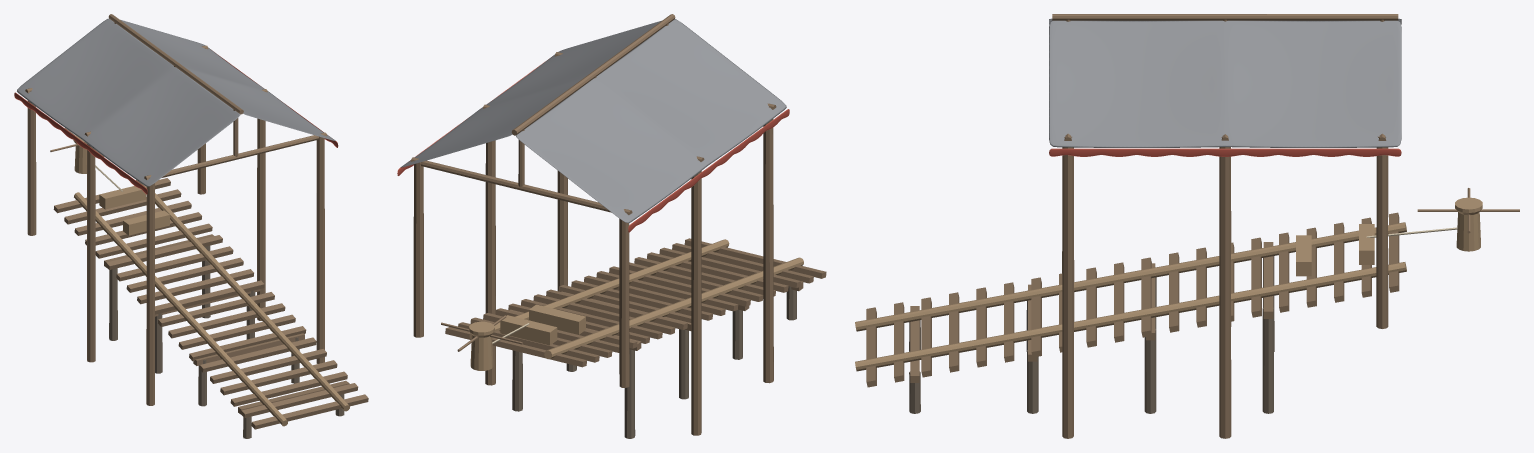
File: H05_修船滑道.fbx
3 renders of one model, left to right at view 1: azimuth 30°, elevation 25°; view 2: azimuth 150°, elevation 25°; view 3: azimuth 270°, elevation 25°, orthographic. The views are drawn at different scales.
Visible parts, largest first — view 1: H05_棚顶, H05_枕木, H05_棚柱, H05_滑轨, H05_托桩, H05_托梁, H05_船托, H05_棚梁, H05_棚顶垂幔, H05_棚脊, H05_绞盘柱; view 2: H05_棚顶, H05_枕木, H05_棚柱, H05_滑轨, H05_托桩, H05_船托, H05_棚梁, H05_棚顶垂幔, H05_棚脊, H05_绞盘柱, H05_托梁; view 3: H05_棚顶, H05_枕木, H05_滑轨, H05_棚柱, H05_托桩, H05_棚顶垂幔, H05_棚脊, H05_托梁, H05_船托, H05_绞盘柱.
Part boxes in pixels (box(x1,y1,x2,y2)): H05_棚顶: box(17, 18, 335, 186); H05_枕木: box(53, 178, 368, 429); H05_棚柱: box(27, 48, 324, 405); H05_滑轨: box(74, 180, 349, 426); H05_托桩: box(109, 245, 344, 438); H05_托梁: box(104, 234, 349, 414); H05_船托: box(99, 186, 169, 235); H05_棚梁: box(25, 45, 326, 179); H05_棚顶垂幔: box(14, 54, 338, 194); H05_棚脊: box(108, 14, 243, 114); H05_绞盘柱: box(73, 135, 86, 173); H05_棚顶: box(400, 19, 786, 222); H05_枕木: box(445, 238, 826, 367); H05_棚柱: box(413, 55, 773, 435); H05_滑轨: box(469, 239, 803, 358); H05_托桩: box(512, 286, 796, 438); H05_船托: box(500, 304, 585, 345); H05_棚梁: box(410, 52, 776, 214); H05_棚顶垂幔: box(397, 59, 789, 232); H05_棚脊: box(511, 14, 675, 135); H05_绞盘柱: box(469, 321, 494, 370); H05_托梁: box(510, 281, 803, 350); H05_棚顶: box(1049, 18, 1401, 147); H05_枕木: box(866, 212, 1399, 387); H05_滑轨: box(855, 222, 1406, 371); H05_棚柱: box(1062, 136, 1388, 438); H05_托桩: box(909, 256, 1274, 413); H05_棚顶垂幔: box(1049, 148, 1401, 156); H05_棚脊: box(1052, 14, 1398, 20); H05_托梁: box(910, 242, 1273, 382); H05_船托: box(1296, 224, 1374, 276); H05_绞盘柱: box(1455, 197, 1482, 251).
Size of the model in its own units: 742 by 1032 by 1692.
